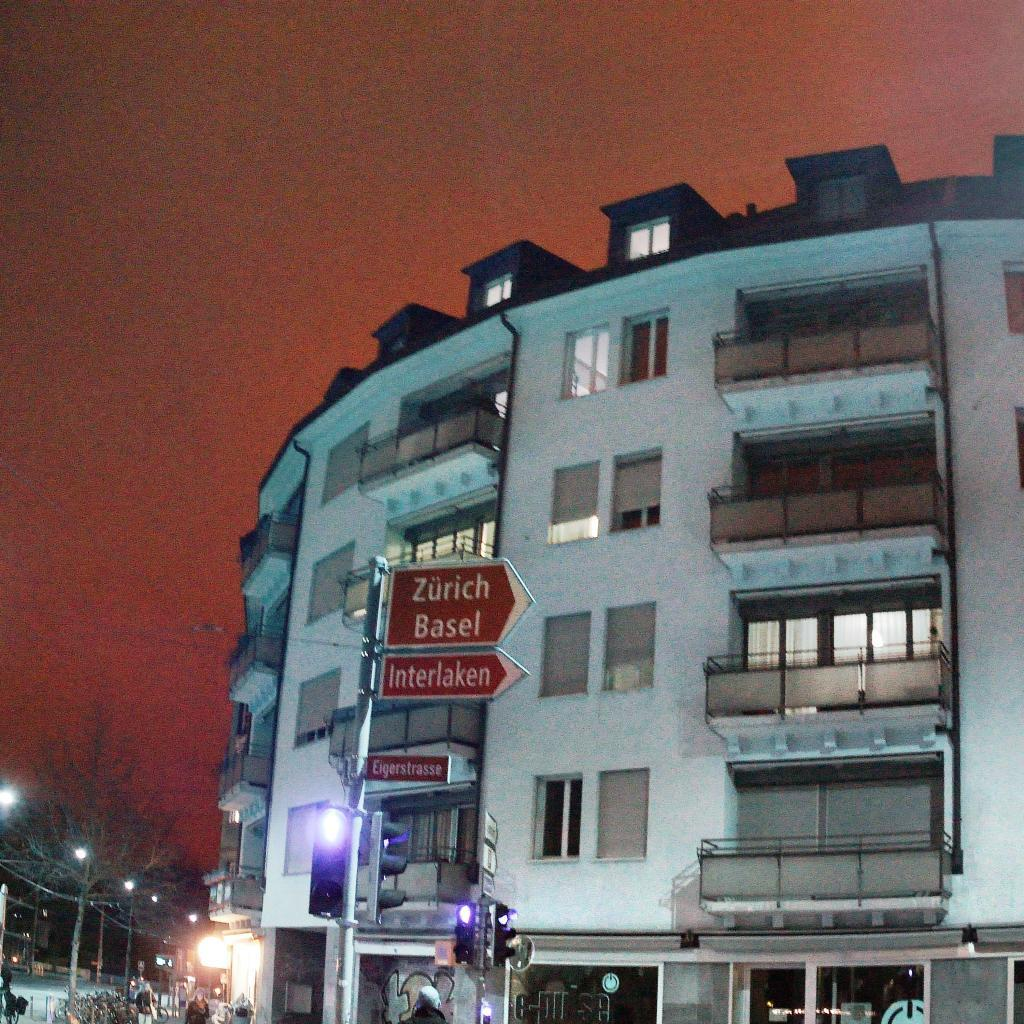balcony-fence: (702, 637, 952, 727), (707, 467, 949, 554), (711, 305, 942, 394), (695, 828, 953, 905), (358, 394, 509, 487), (341, 535, 497, 620), (328, 698, 487, 759), (381, 847, 476, 902), (238, 508, 299, 591), (228, 623, 285, 694), (218, 742, 274, 802), (204, 862, 265, 914)
facade: (202, 134, 1024, 1024)
shop: (729, 957, 934, 1024), (501, 948, 667, 1024), (353, 936, 475, 1024)
street: (77, 976, 216, 1024), (0, 961, 68, 1024)
traffic-infrastructure: (307, 554, 537, 1024), (453, 893, 519, 1024), (154, 953, 175, 1020)
vegetation: (0, 692, 206, 1024)
window: (734, 766, 943, 852), (740, 583, 944, 671), (740, 417, 938, 500), (741, 271, 933, 341), (398, 494, 499, 562), (413, 365, 512, 431), (390, 801, 477, 863), (601, 601, 657, 693), (303, 536, 357, 628), (320, 416, 372, 509), (596, 768, 649, 859), (609, 445, 662, 535), (547, 460, 601, 546), (538, 611, 591, 698), (292, 664, 343, 752), (533, 776, 583, 860), (281, 797, 331, 876), (808, 169, 870, 225), (624, 312, 669, 386), (567, 327, 610, 398), (624, 212, 672, 264), (1003, 269, 1024, 335), (481, 270, 513, 310), (385, 329, 407, 357), (1016, 414, 1024, 491)
